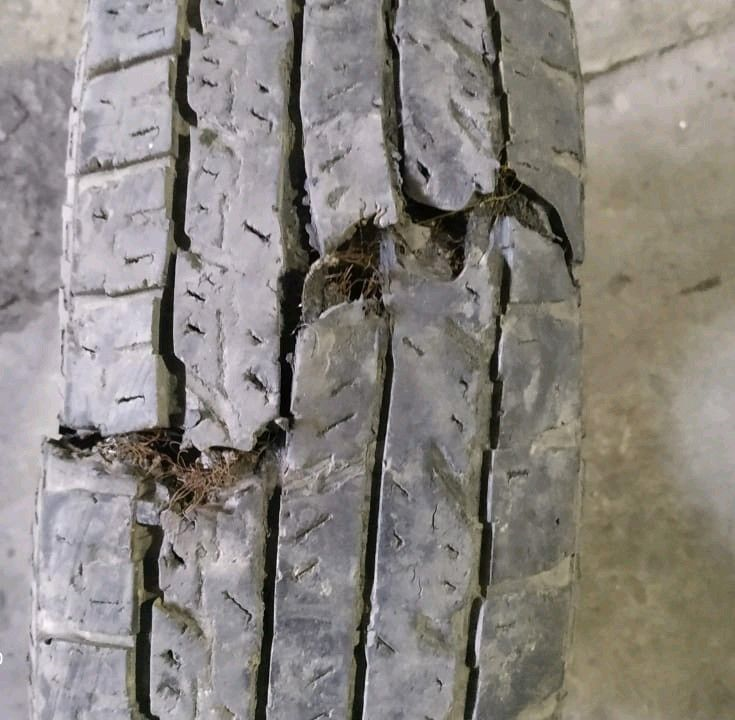bead_damage: (42, 142, 585, 518)
